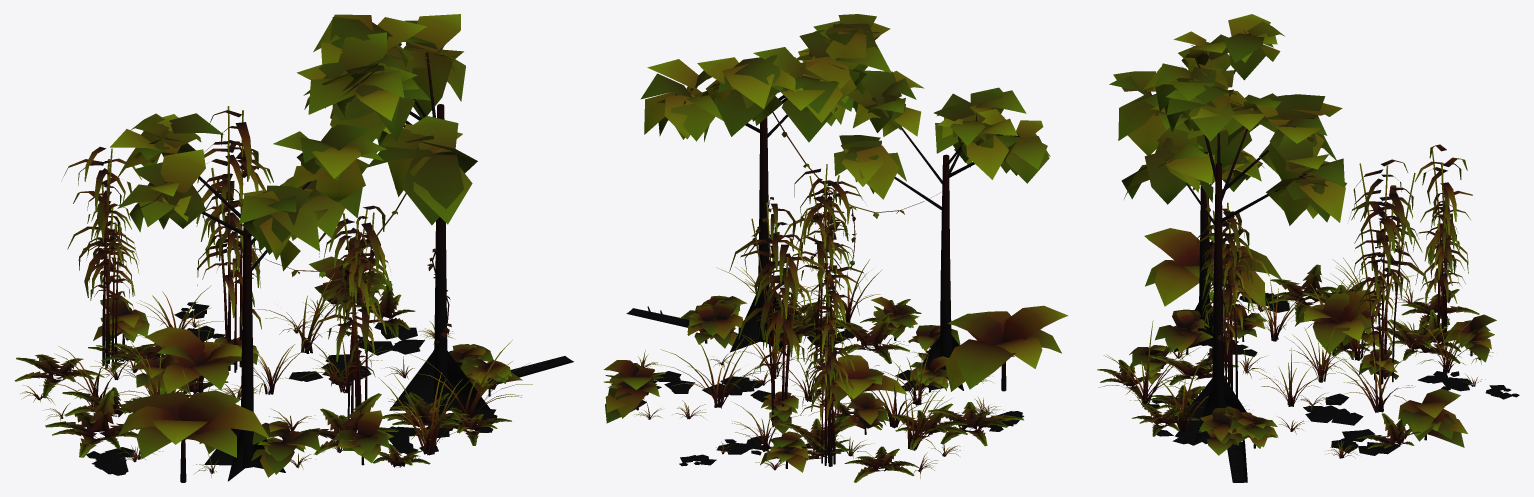
The model's file is patch_mixed.glb.
3 views of the same model, side by side, from view 1: azimuth 30°, elevation 25°; view 2: azimuth 150°, elevation 25°; view 3: azimuth 270°, elevation 25° (orthographic). The views are drawn at different scales.
Parts seen in each view (by area): view 1: patch_mixed; view 2: patch_mixed; view 3: patch_mixed.
Part boxes in pixels (x1,y1,x2,y2): patch_mixed: (14,14,573,482); patch_mixed: (603,14,1068,482); patch_mixed: (1097,14,1519,482).
Size of the model in its own units: 14.59 by 10.98 by 12.78.
1 material, 1 textured.
